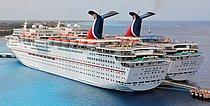Ship: (5, 18, 174, 96)
